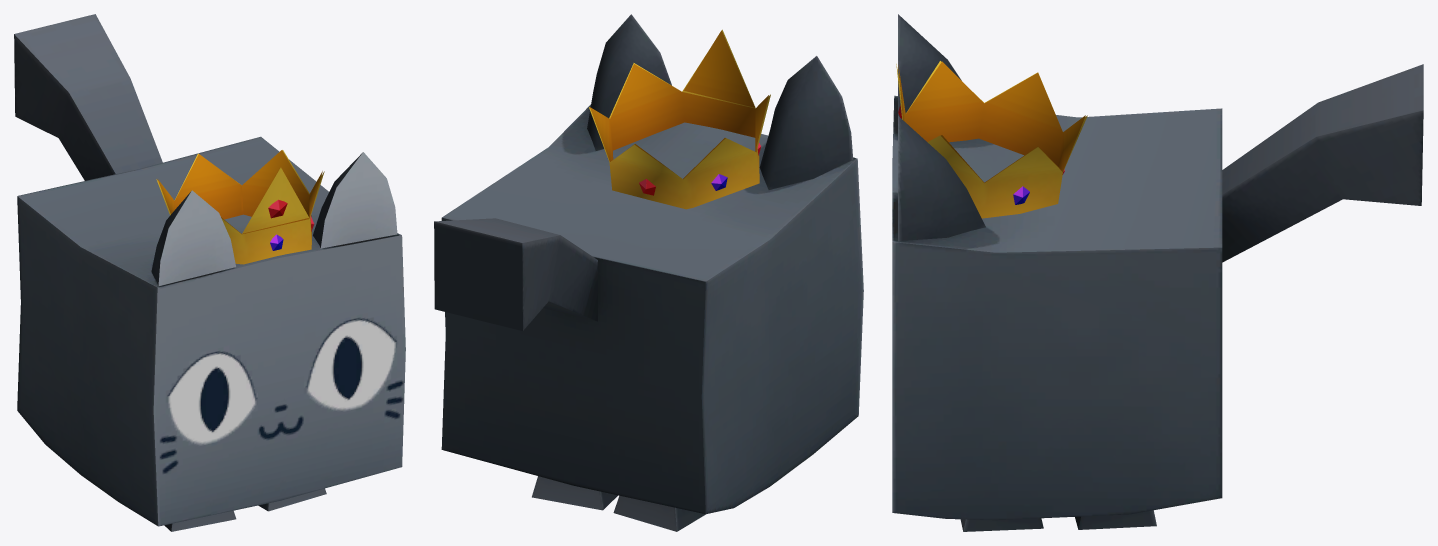
The model's file is pets_11.fbx.
The picture shows the model from 3 angles, left to right: view 1: azimuth 30°, elevation 25°; view 2: azimuth 150°, elevation 25°; view 3: azimuth 270°, elevation 25°; orthographic projection. The views are drawn at different scales.
Visible parts, largest first — view 1: Pet.013; view 2: Pet.013; view 3: Pet.013.
Part boxes in pixels (<box>): Pet.013: <box>14,14,405,531</box>; Pet.013: <box>434,14,863,531</box>; Pet.013: <box>892,14,1423,531</box>.
Bounding box in the file's own units: 0.401 × 0.6262 × 0.5561.
